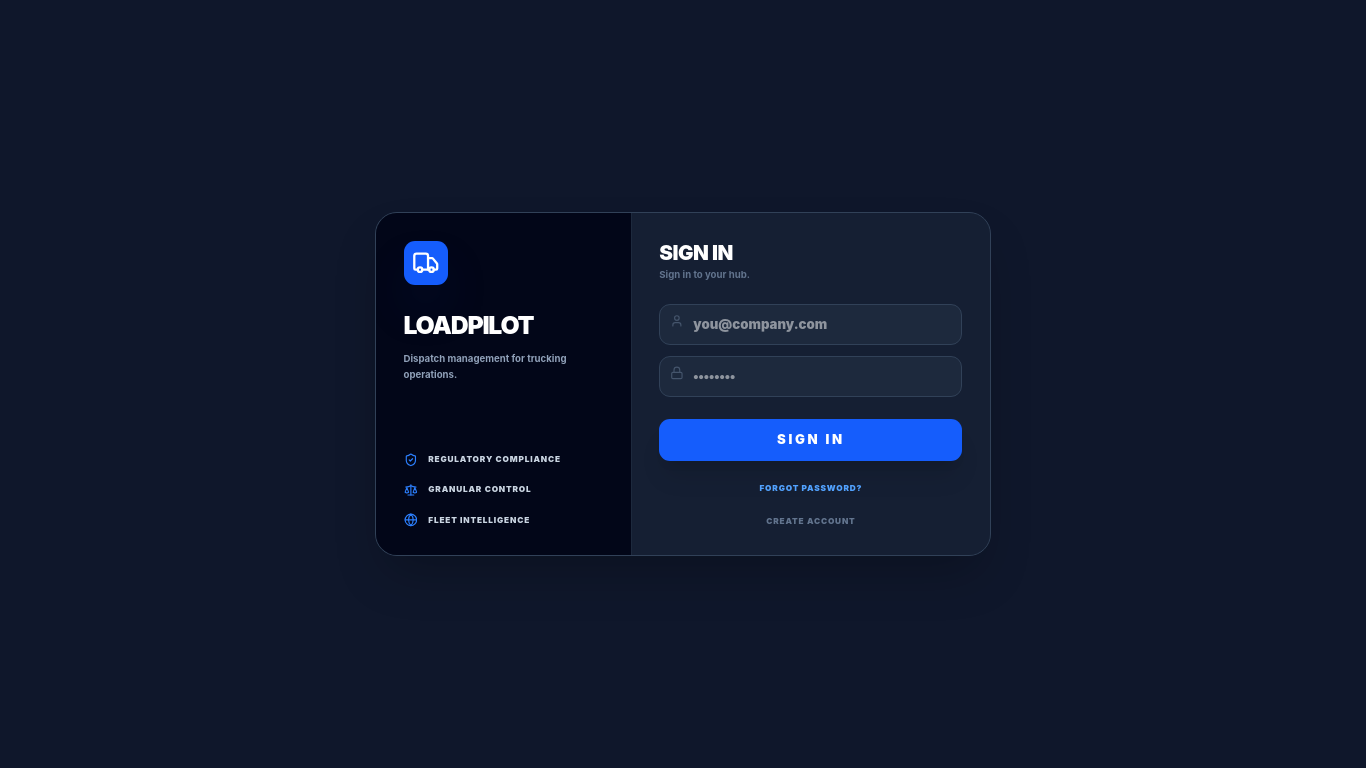
it: Auth component › Forgot password flow › opens forgot password dialog when link clicked
Click the button with test id "forgot-password-link". click: coordinates (811, 488)
box: top-left (659, 483), bottom-right (962, 494)
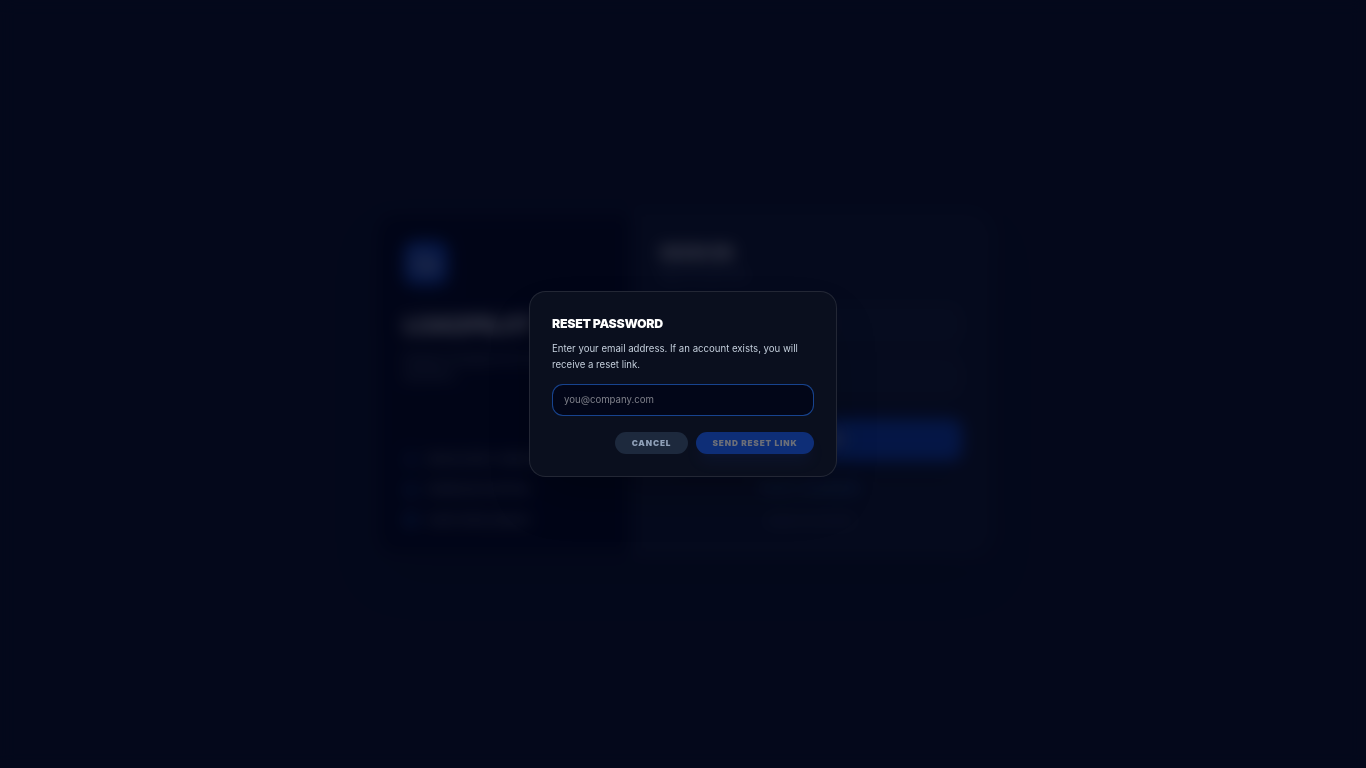
Now the heading "Reset Password" is shown, box top-left (552, 316), bottom-right (663, 331)
